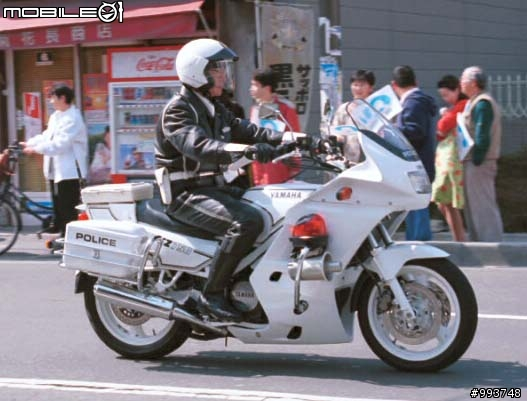helmet: (170, 38, 238, 81)
